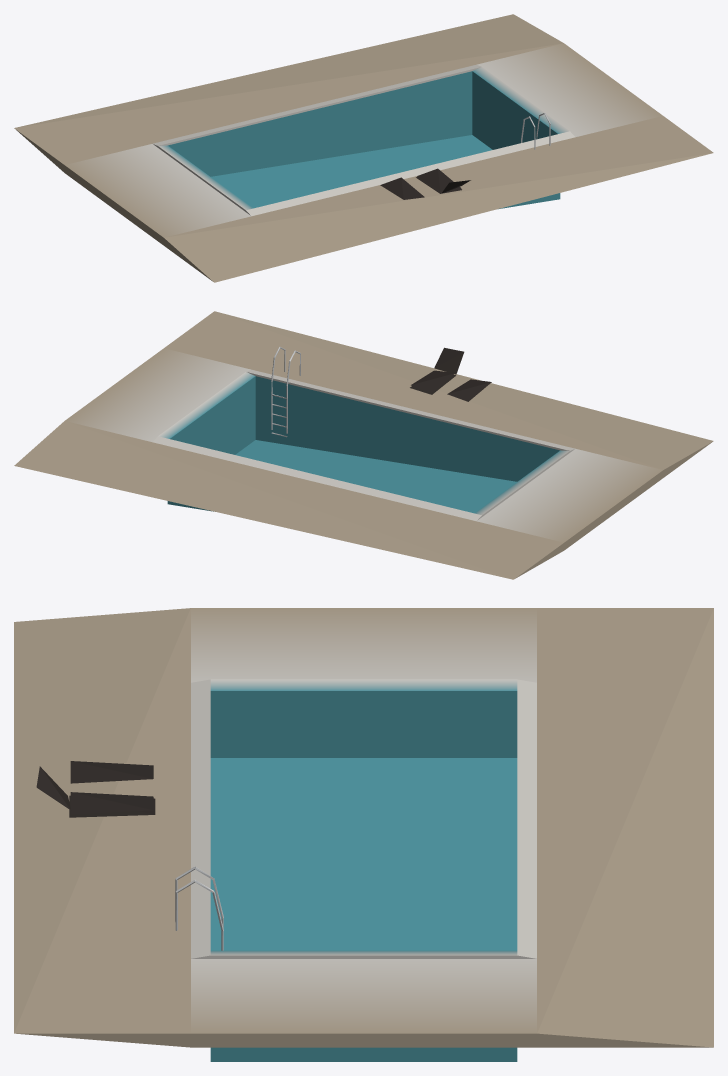
Rendered from swimming-pool.lod2.glb.
3 renders of one model, top to bottom at view 1: azimuth 30°, elevation 25°; view 2: azimuth 150°, elevation 25°; view 3: azimuth 270°, elevation 25°, orthographic. The views are drawn at different scales.
Visible parts, largest first — view 1: Object_5; view 2: Object_5; view 3: Object_5.
Part boxes in pixels (x1,y1,x2,y2): Object_5: (14, 14, 713, 282); Object_5: (14, 311, 713, 579); Object_5: (14, 608, 713, 1061).
Size of the model in its own units: 16.4 by 2.97 by 11.4.
